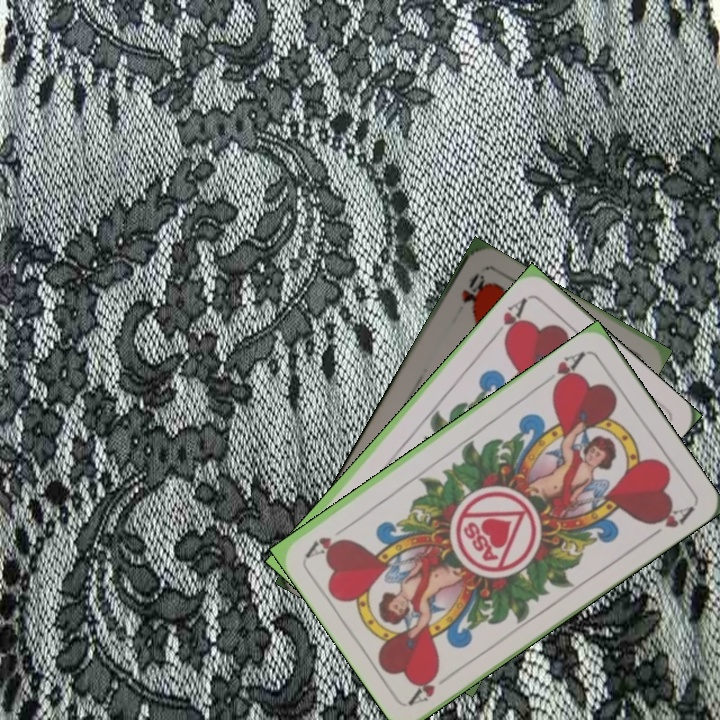HA: (538, 347, 589, 392), (488, 293, 531, 346), (406, 666, 458, 708)
HO: (457, 268, 488, 306)
